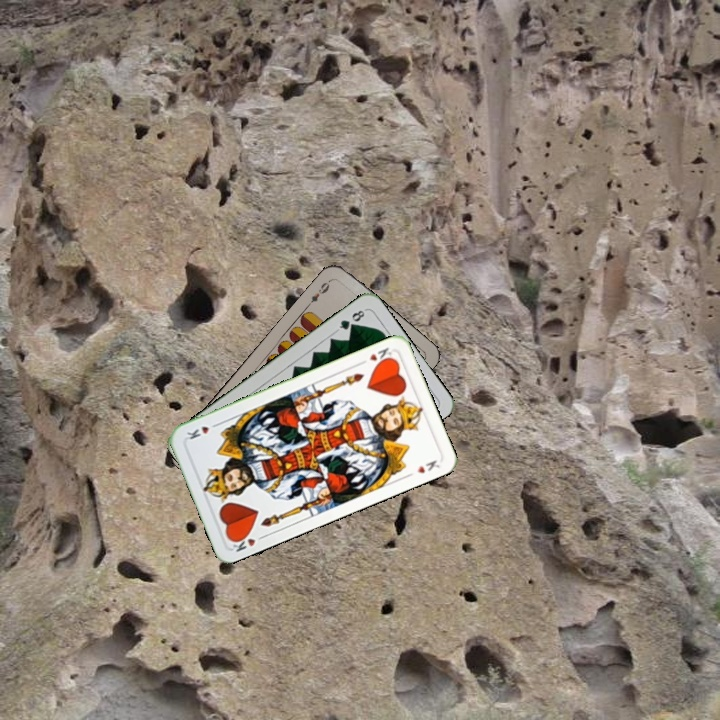E9: (303, 275, 334, 309)
G8: (333, 305, 368, 334)
HK: (227, 529, 268, 554), (365, 343, 395, 367)
